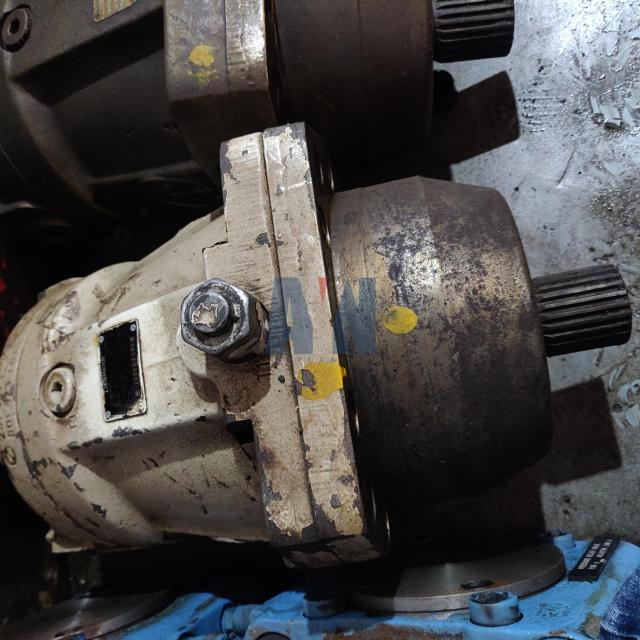bolt nut: (180, 277, 262, 362)
